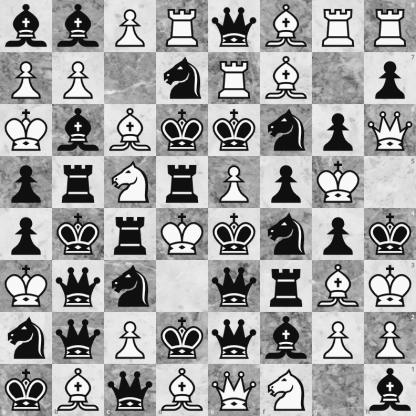B: (156, 364, 209, 416), (52, 364, 104, 416), (105, 105, 156, 156), (261, 1, 312, 52), (261, 53, 312, 104), (313, 261, 364, 312)
K: (364, 260, 416, 312), (1, 105, 52, 156), (1, 261, 52, 312), (157, 209, 208, 260), (313, 157, 364, 208)
N: (260, 364, 312, 416), (105, 157, 156, 208)
P: (364, 312, 416, 364), (1, 53, 52, 104), (53, 53, 104, 104), (105, 1, 156, 52), (105, 313, 156, 364), (209, 157, 260, 208), (313, 313, 364, 364)
Q: (364, 104, 416, 156), (209, 364, 260, 416)
R: (364, 0, 416, 52), (157, 1, 208, 52), (209, 53, 260, 104), (313, 1, 364, 52)
b: (364, 364, 416, 416), (1, 1, 52, 52), (53, 1, 104, 52), (53, 105, 104, 156), (261, 313, 312, 364)
board: (0, 0, 415, 415)
k: (0, 364, 52, 416), (364, 209, 416, 260), (53, 209, 104, 260), (157, 105, 208, 156), (157, 313, 208, 364), (209, 105, 260, 156), (209, 209, 260, 260)
n: (1, 313, 52, 364), (105, 261, 156, 312), (157, 53, 208, 104), (261, 105, 312, 156), (261, 209, 312, 260)
p: (364, 52, 416, 104), (1, 157, 52, 208), (1, 209, 52, 260), (261, 157, 312, 208), (313, 105, 364, 156), (313, 209, 364, 260)
q: (104, 364, 156, 416), (53, 261, 104, 312), (53, 313, 104, 364), (209, 1, 260, 52), (209, 261, 260, 312), (209, 313, 260, 364)
r: (53, 157, 104, 208), (105, 209, 156, 260), (157, 157, 208, 208), (261, 261, 312, 312)
